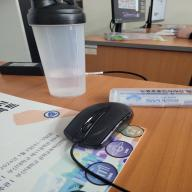Mouse: (63, 101, 134, 151)
